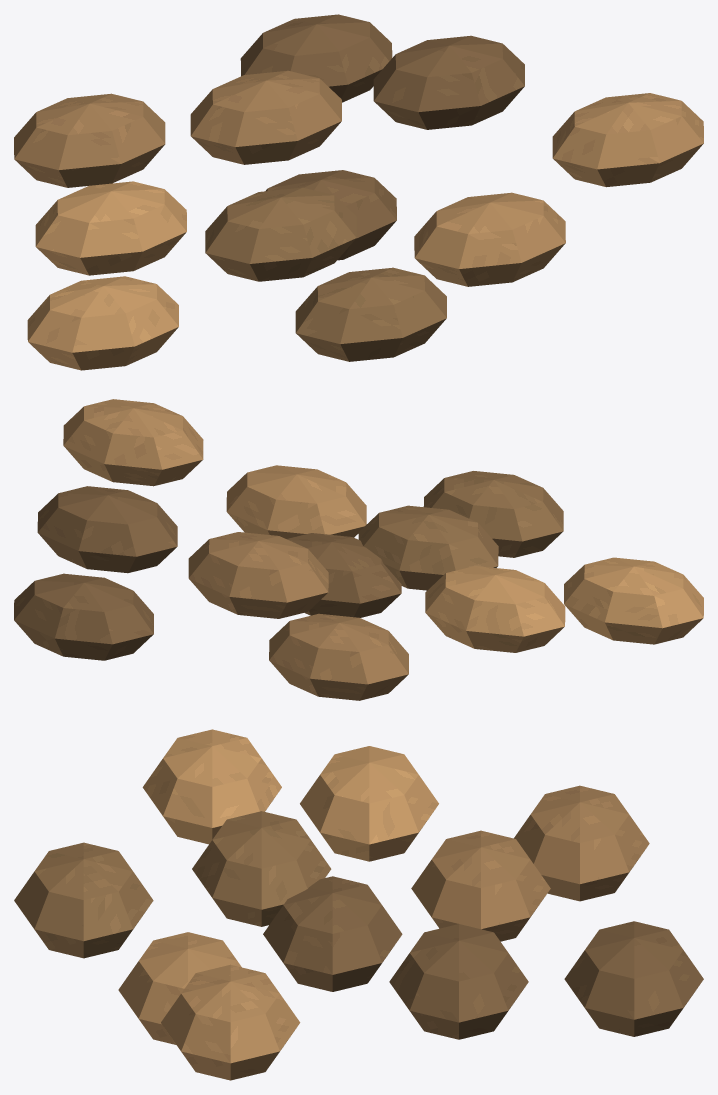
File: cracklins.glb
3 renders of one model, top to bottom at view 1: azimuth 30°, elevation 25°; view 2: azimuth 150°, elevation 25°; view 3: azimuth 270°, elevation 25°, orthographic. The views are drawn at different scales.
Parts seen in each view (by area): view 1: block_snack pieces (×11); view 2: block_snack pieces (×11); view 3: block_snack pieces (×11).
Part boxes in pixels (x1,y1,x2,y2): block_snack pieces (×11): (14,14,703,370); block_snack pieces (×11): (14,399,703,700); block_snack pieces (×11): (14,729,703,1080).
Bounding box in the file's own units: 0.0887 × 0.0151 × 0.0701.
Materials: 1 (1 with a texture image).
